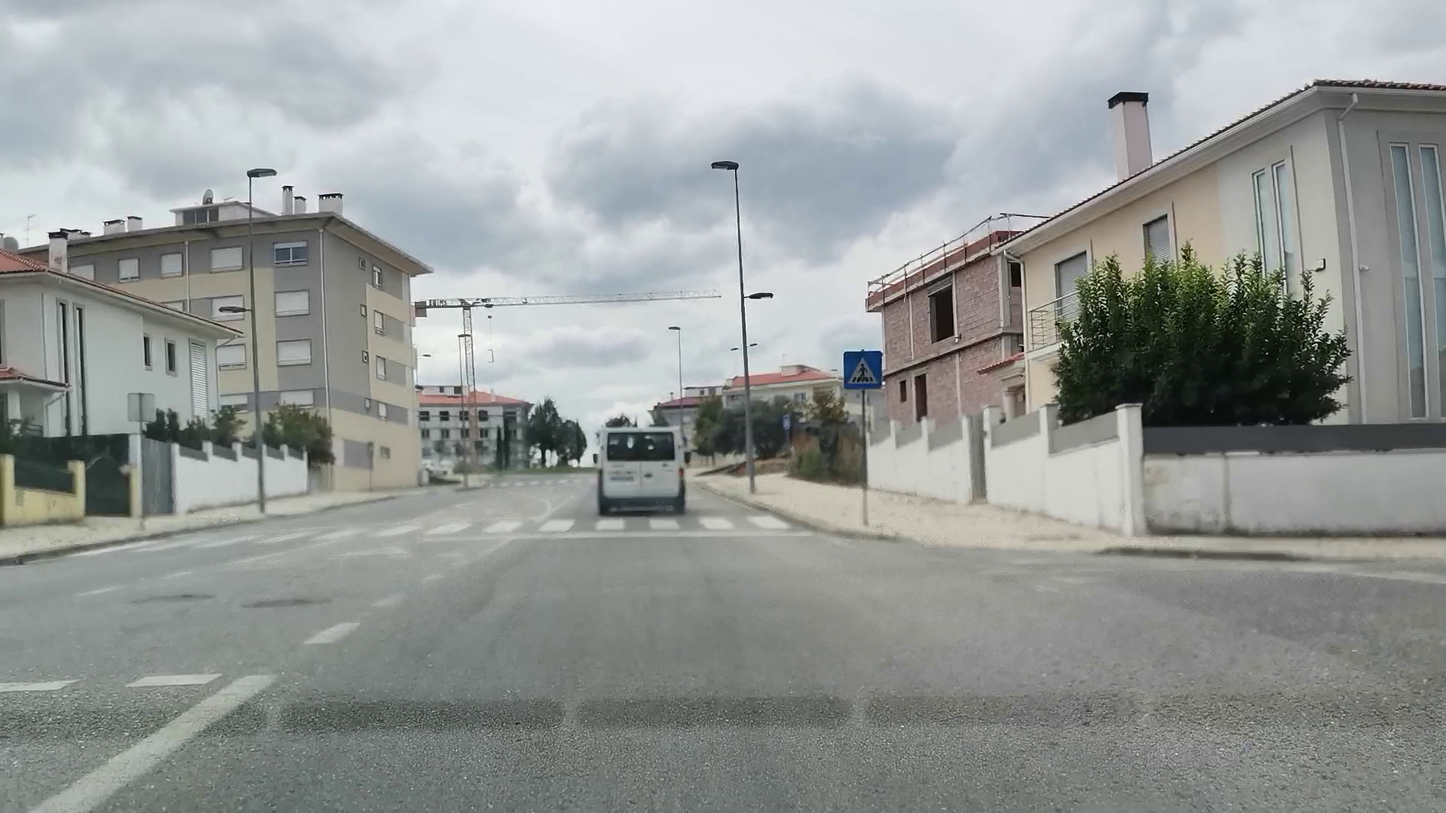Stairs: (70, 516, 795, 552)
